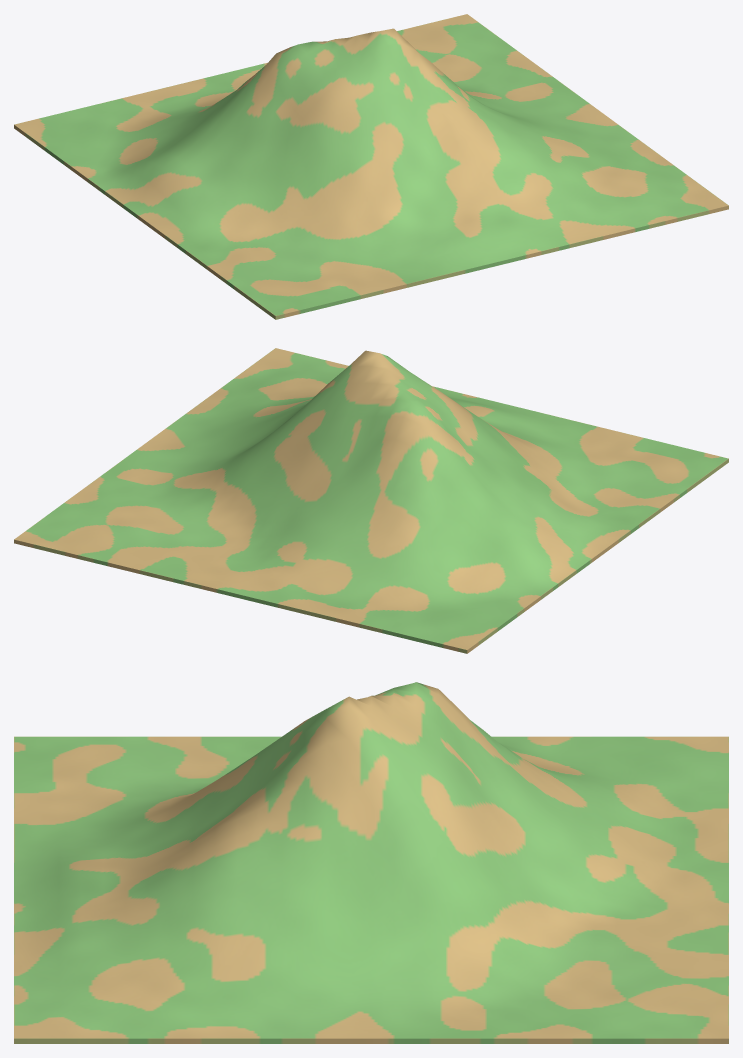
The model's file is Grass_Hills_09.obj.
3 views of the same model, one above another, from view 1: azimuth 30°, elevation 25°; view 2: azimuth 150°, elevation 25°; view 3: azimuth 270°, elevation 25° (orthographic). The views are drawn at different scales.
Bounding box in the file's own units: 10 × 3.03 × 10.
1 material, 1 textured.
